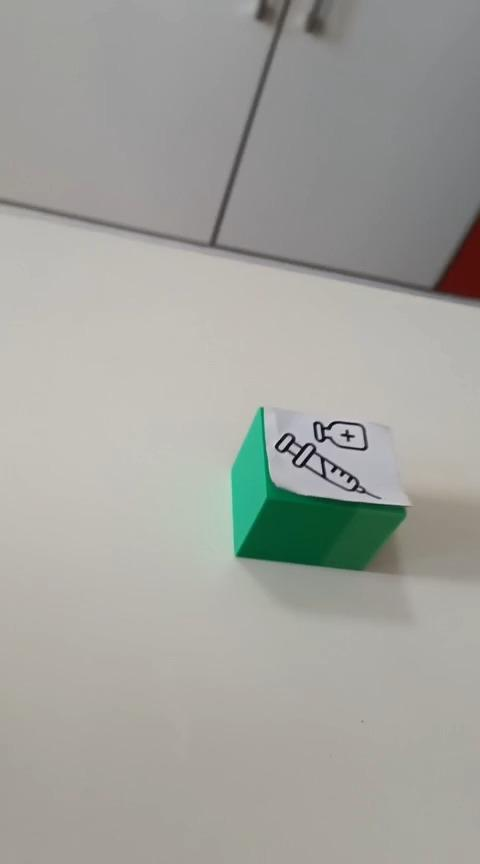antiseptic cream: (229, 403, 412, 571)
